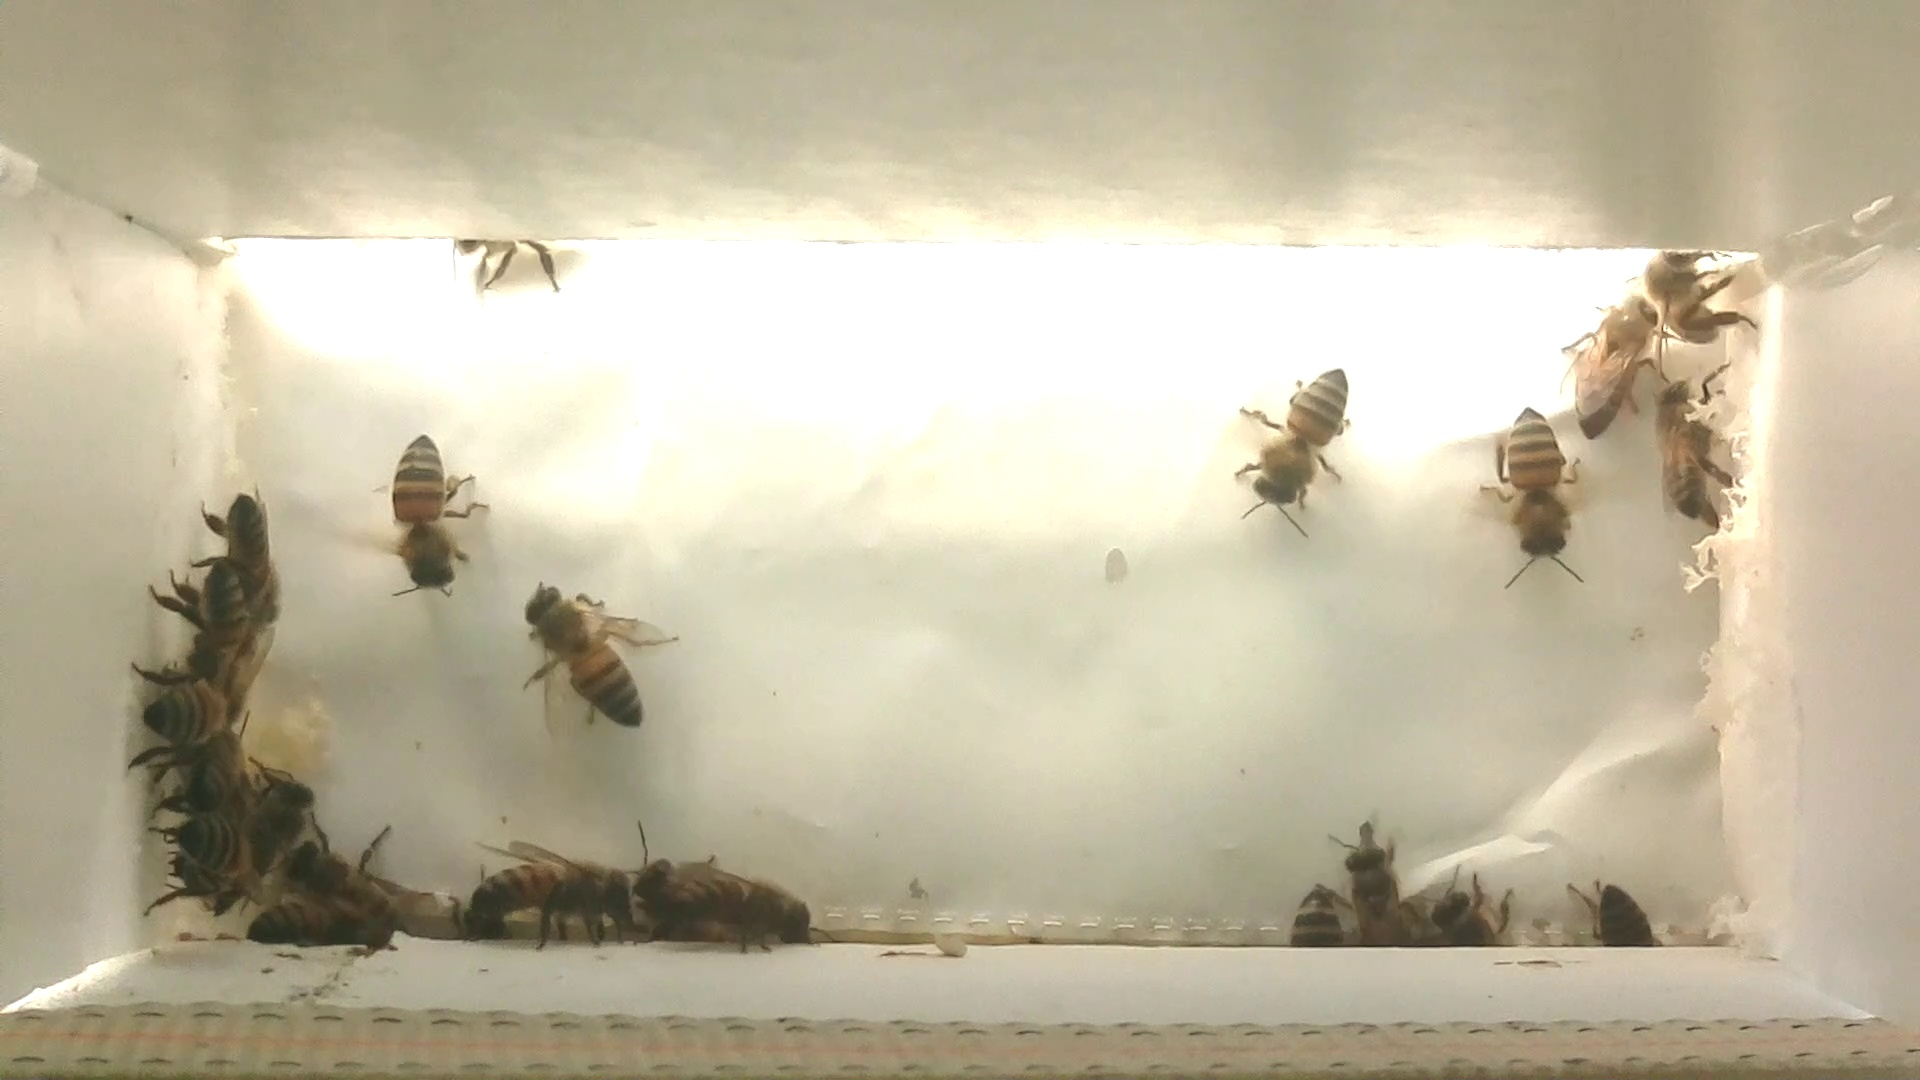bee: (480, 553, 688, 760), (324, 410, 509, 615), (1455, 390, 1610, 597), (1208, 338, 1361, 545), (1633, 355, 1758, 545), (1539, 266, 1676, 436), (632, 844, 815, 961), (469, 829, 630, 956), (284, 825, 436, 955), (190, 473, 303, 632), (146, 560, 270, 699), (1643, 239, 1774, 356), (129, 798, 253, 920), (119, 659, 255, 766), (1327, 822, 1424, 956), (229, 750, 326, 876), (446, 225, 576, 313), (1559, 861, 1675, 956), (1419, 858, 1524, 959), (160, 723, 266, 819), (258, 864, 339, 955), (1274, 876, 1352, 960)
